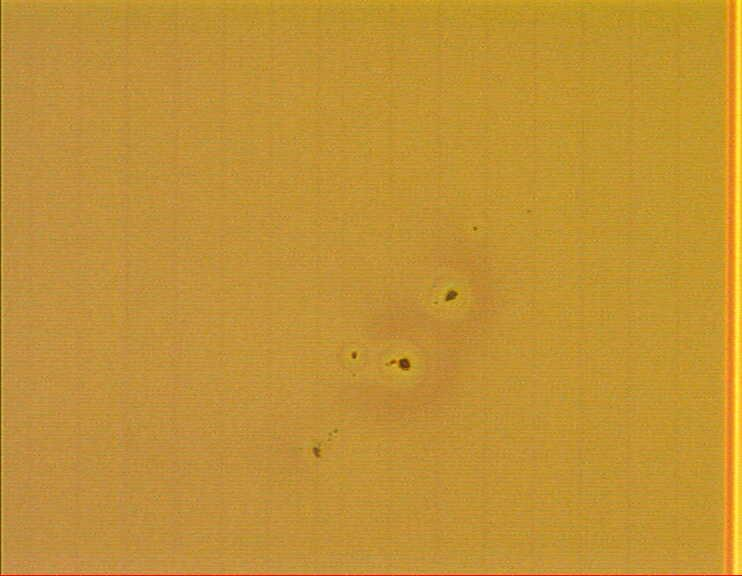PIQ PARTICLE: (345, 201, 539, 399)
